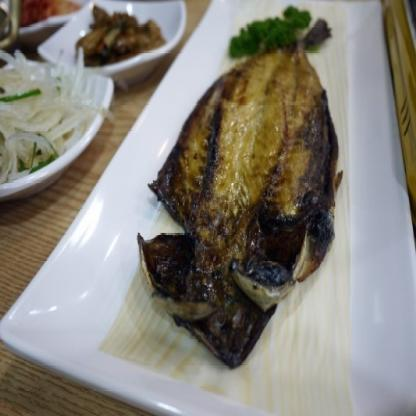Peixe: (133, 15, 344, 367)
